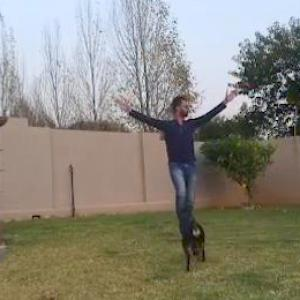takeoff: (107, 77, 245, 235)
